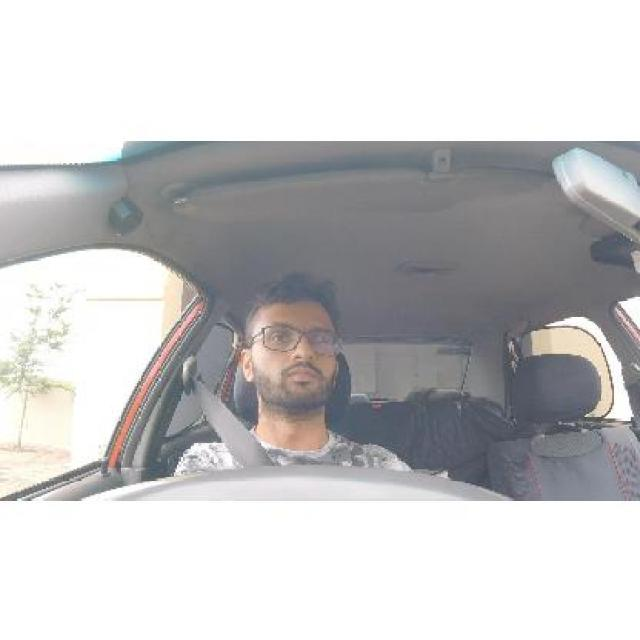person: (226, 281, 356, 428)
